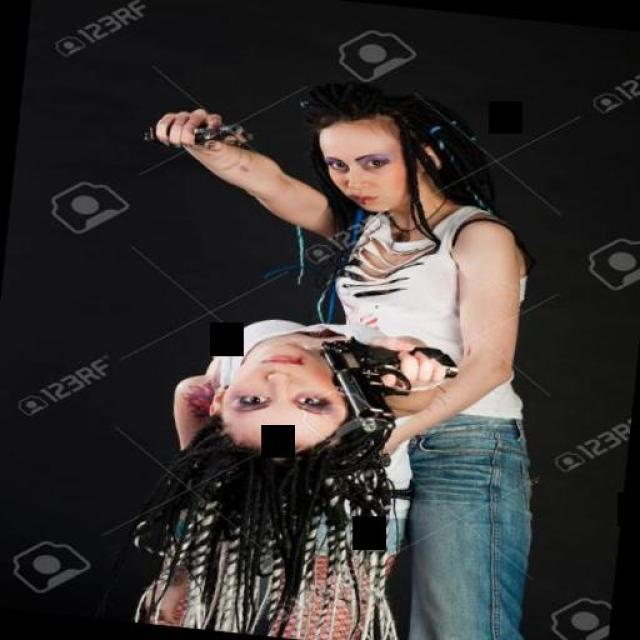gun: (312, 325, 453, 447), (155, 111, 265, 155)
